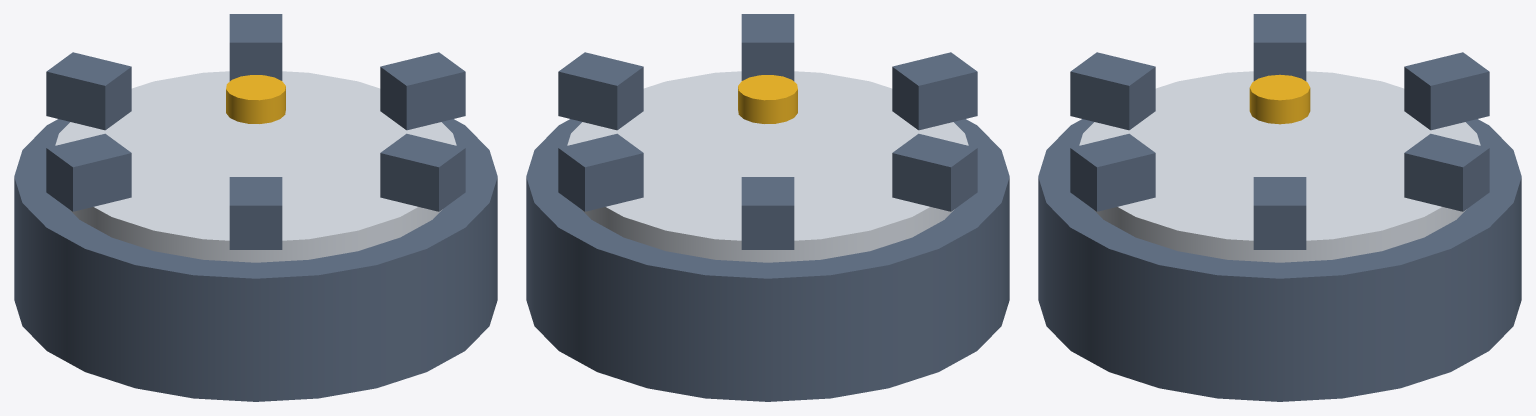
Rendered from toy_castle_tower_cap.glb.
3 views of the same model, side by side, from view 1: azimuth 30°, elevation 25°; view 2: azimuth 150°, elevation 25°; view 3: azimuth 270°, elevation 25° (orthographic).
Parts seen in each view (by area): view 1: solid_1, solid_2, solid_3, solid_7, solid_4, solid_6, solid_5, solid_8, solid_9; view 2: solid_1, solid_2, solid_3, solid_5, solid_6, solid_8, solid_7, solid_4, solid_9; view 3: solid_1, solid_2, solid_5, solid_7, solid_4, solid_8, solid_3, solid_6, solid_9.
Part boxes in pixels (x1,y1,x2,y2): solid_1: (14, 119, 497, 401); solid_2: (55, 71, 456, 262); solid_3: (380, 52, 465, 130); solid_7: (46, 52, 131, 130); solid_4: (380, 133, 465, 211); solid_6: (46, 133, 131, 211); solid_5: (229, 177, 282, 249); solid_8: (229, 14, 282, 81); solid_9: (226, 75, 285, 123); solid_1: (526, 119, 1009, 401); solid_2: (567, 71, 968, 262); solid_3: (558, 52, 643, 130); solid_5: (892, 52, 977, 130); solid_6: (892, 133, 977, 211); solid_8: (558, 133, 643, 211); solid_7: (741, 177, 794, 249); solid_4: (741, 14, 794, 81); solid_9: (738, 75, 797, 123); solid_1: (1038, 119, 1521, 401); solid_2: (1079, 71, 1480, 262); solid_5: (1070, 52, 1155, 130); solid_7: (1404, 52, 1489, 130); solid_4: (1070, 133, 1155, 211); solid_8: (1404, 133, 1489, 211); solid_3: (1253, 177, 1306, 249); solid_6: (1253, 14, 1306, 81); solid_9: (1249, 74, 1310, 124).
Size of the model in its own units: 2.56 by 1.24 by 2.56.
